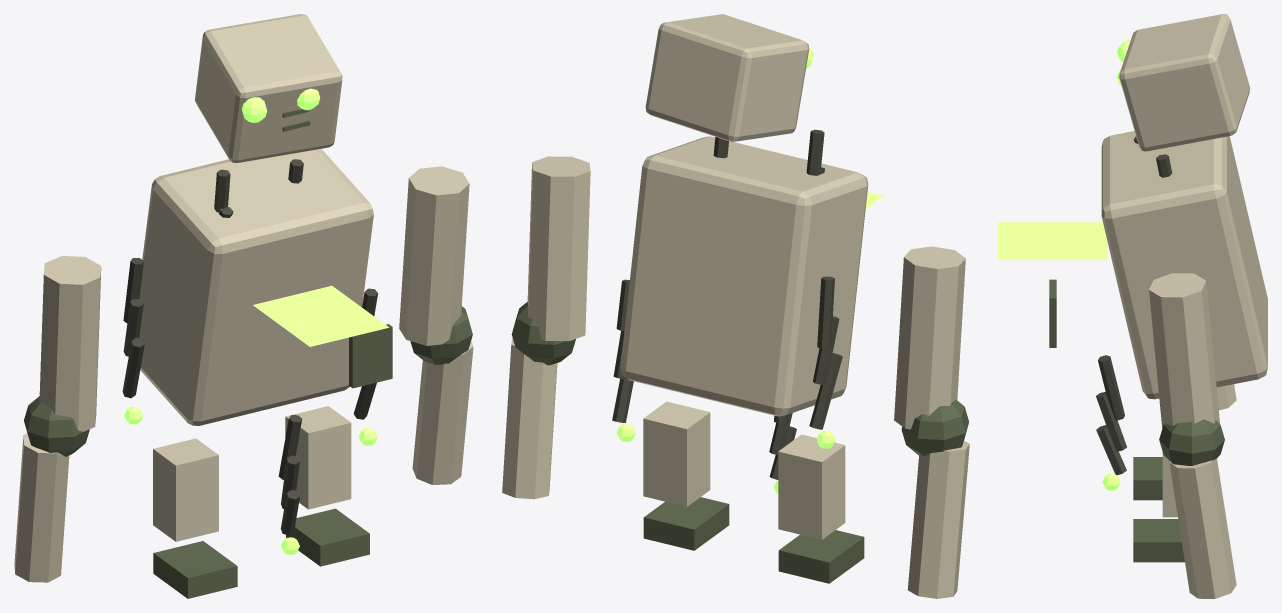
File: zombie_process.glb
3 renders of one model, left to right at view 1: azimuth 30°, elevation 25°; view 2: azimuth 150°, elevation 25°; view 3: azimuth 270°, elevation 25°, orthographic. The views are drawn at different scales.
Visible parts, largest first — view 1: ZombieProcess; view 2: ZombieProcess; view 3: ZombieProcess.
Boxes of the visible parts, <box> form: ZombieProcess: <box>14,14,473,598</box>; ZombieProcess: <box>502,14,969,598</box>; ZombieProcess: <box>998,14,1267,598</box>.
Size of the model in its own units: 1.34 by 1.49 by 0.7373.
